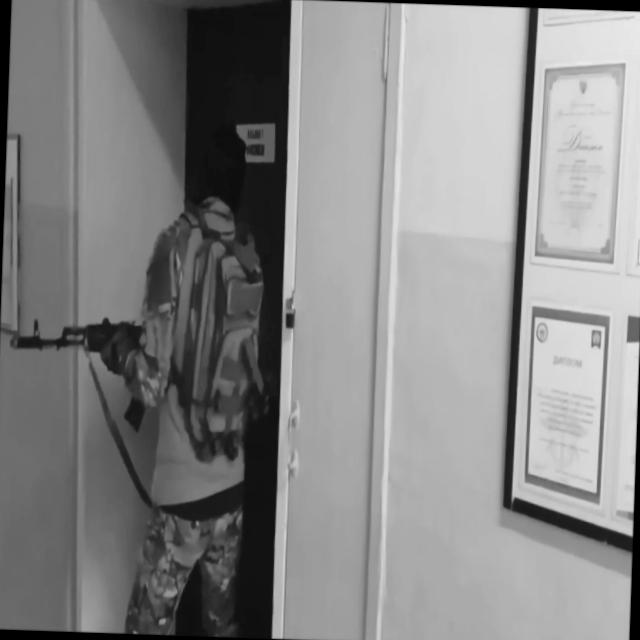gun: (7, 307, 152, 431)
person with a gun: (0, 117, 269, 638)
